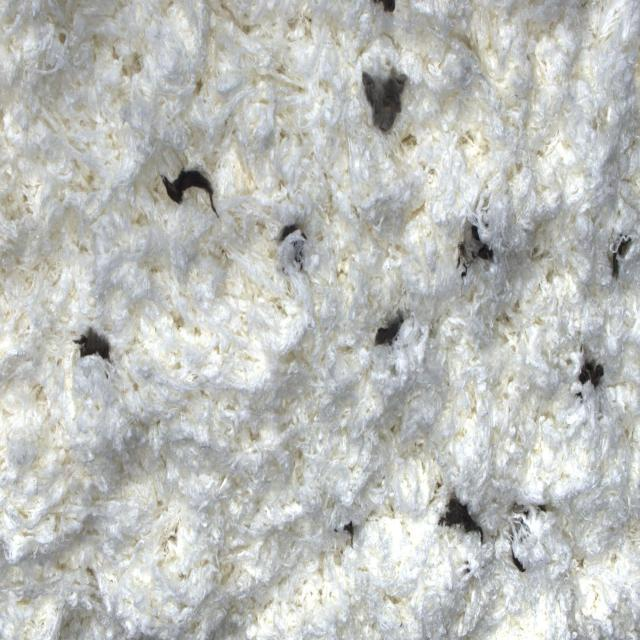dust: (345, 30, 423, 171), (437, 188, 508, 318), (425, 460, 490, 587), (62, 289, 123, 409), (156, 128, 222, 235), (564, 326, 612, 429), (273, 191, 318, 299), (363, 285, 411, 383), (507, 533, 537, 597), (606, 236, 636, 288), (503, 497, 561, 523), (368, 0, 407, 33), (341, 516, 357, 558)
